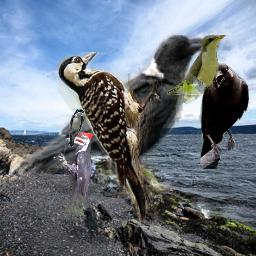Crow: (16, 28, 216, 202), (199, 63, 249, 169)
Cuckoo: (167, 33, 227, 104)
Swallow: (68, 109, 84, 147)
Woodpecker: (58, 52, 162, 226), (52, 132, 94, 215)
